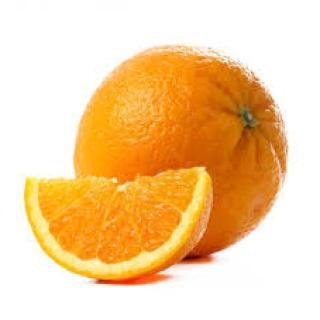orange: (63, 35, 299, 267), (15, 150, 221, 299)
